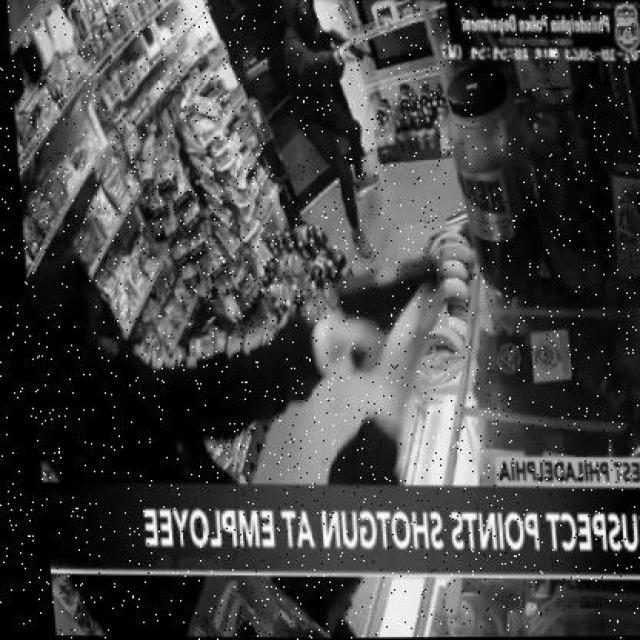weapon: (332, 253, 448, 379), (314, 27, 380, 64)
